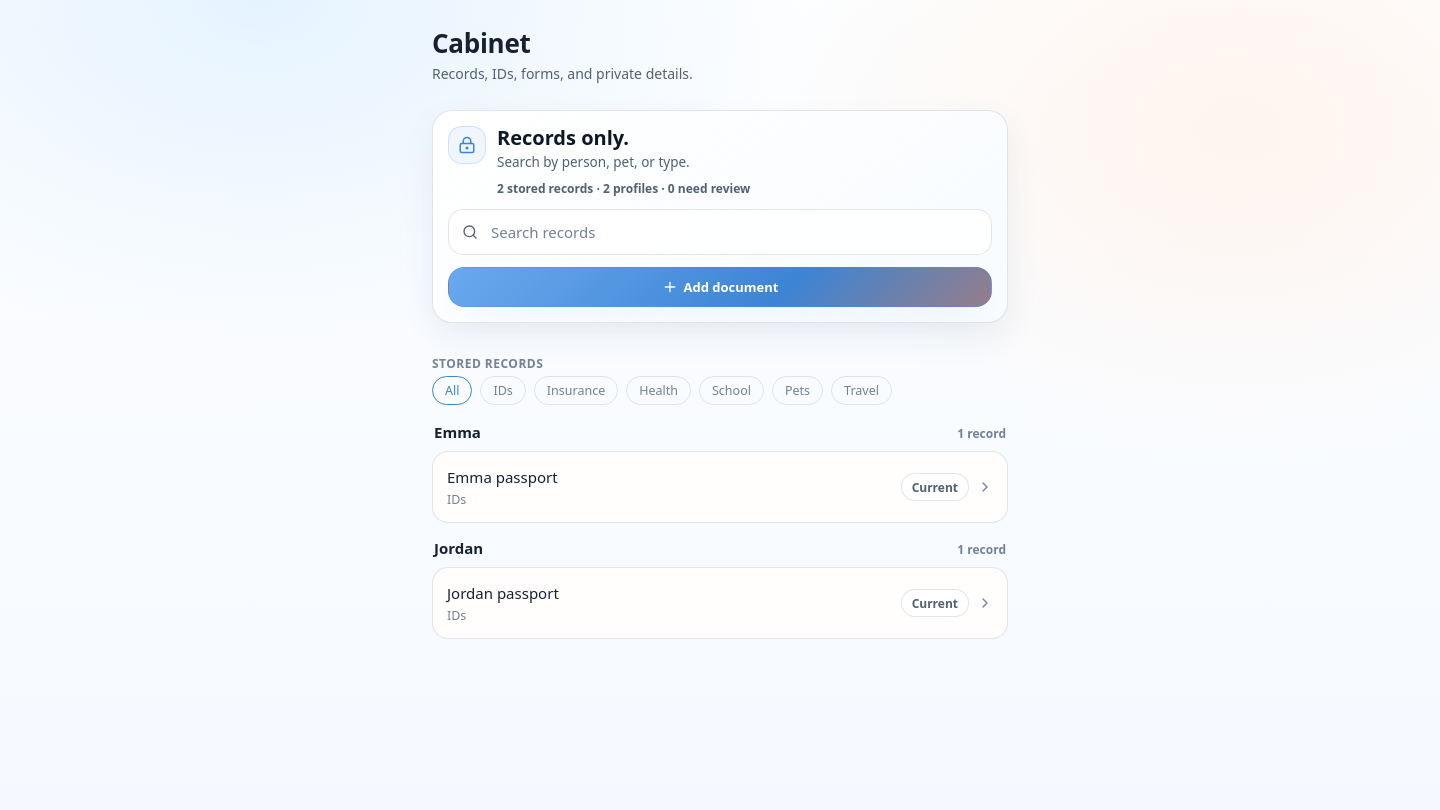
Test case: VaultView add-document flow › search finds records by owner and hides non-matches
This screenshot has width=1440, height=810.
In the search field labelled "Search records": (734, 232) [489,222,978,244], type "Emma"
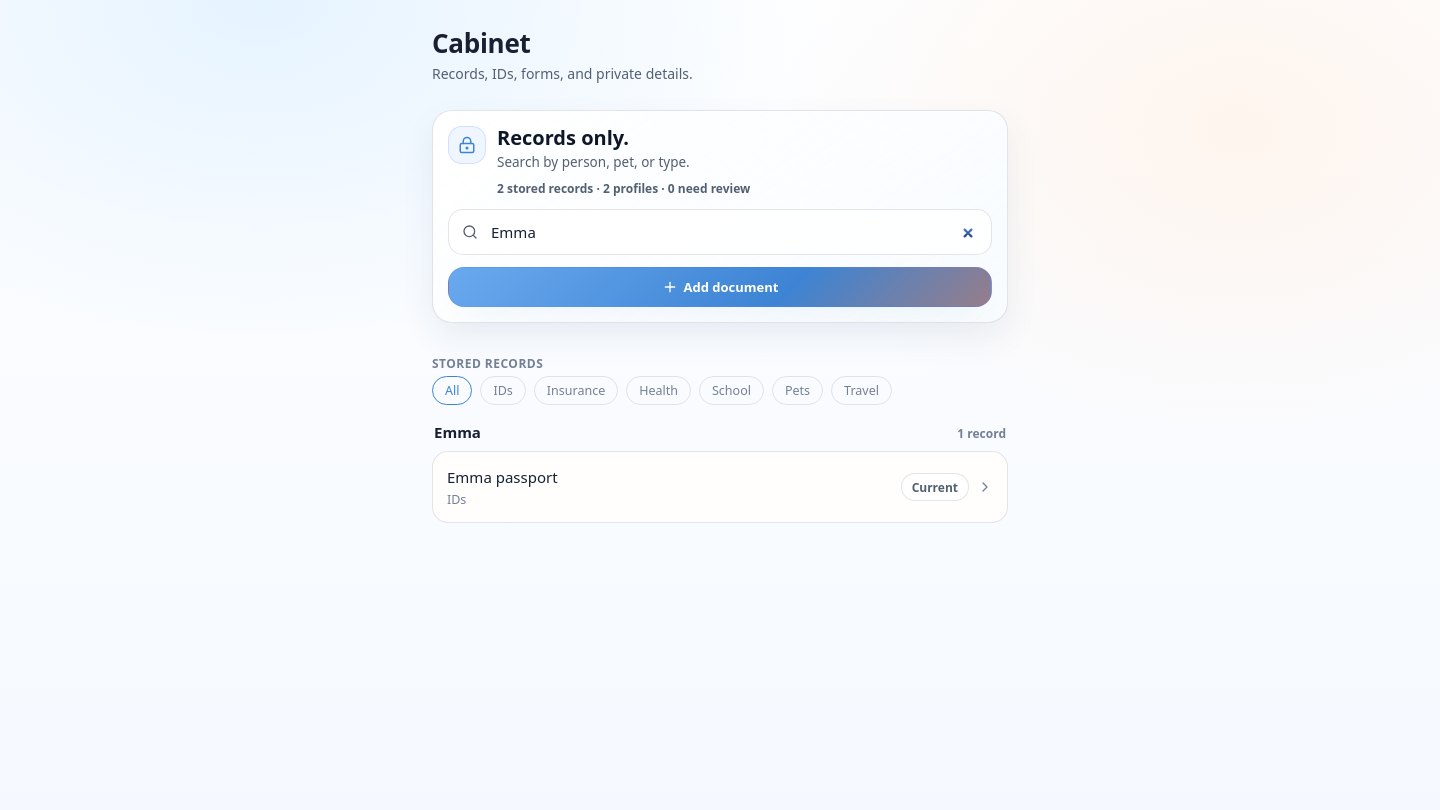
Expected: the text "Emma passport" is shown, [447,467,558,487]
Now the button "Jordan passport" is gone
